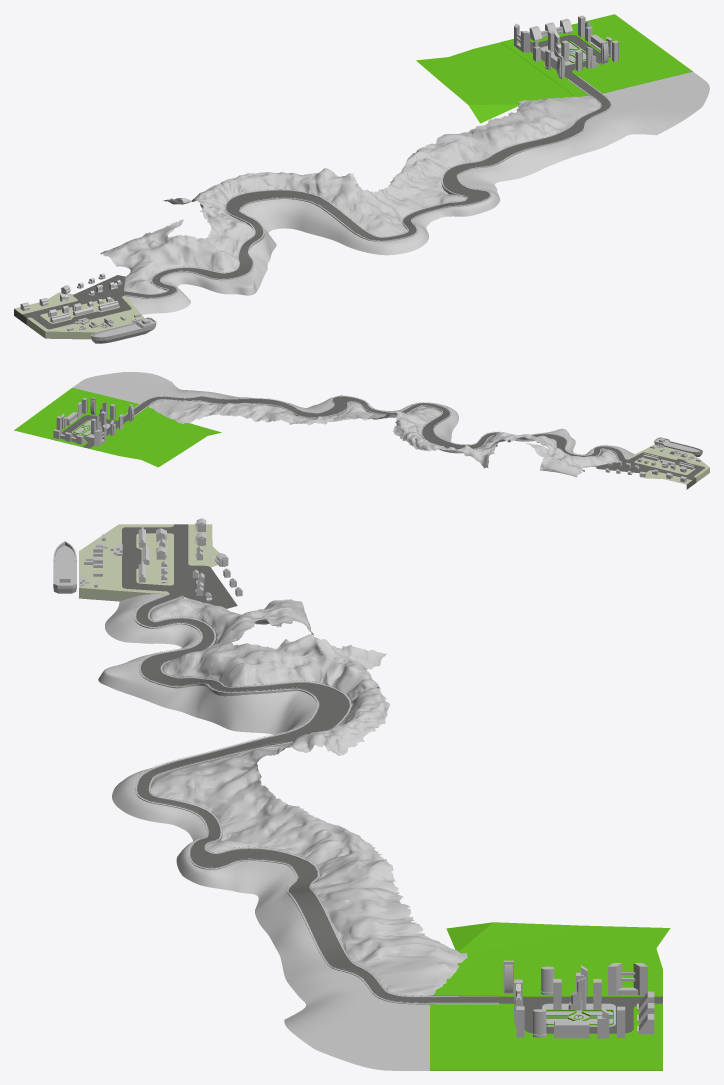
The model's file is level_1.FBX.
The picture shows the model from 3 angles, top to bottom: view 1: azimuth 30°, elevation 25°; view 2: azimuth 150°, elevation 25°; view 3: azimuth 270°, elevation 25°; orthographic projection. The views are drawn at different scales.
Parts seen in each view (by area): view 1: mountain, rocks, grass, road, D_B, D_A, road_block_2, Line008, road_block_1; view 2: mountain, rocks, grass, D_B, road, D_A, road_block_2, Line008, road_block_1, Line021, park, Box033; view 3: mountain, rocks, D_B, grass, road, D_A, road_block_2, road_block_1, Line008, park, Box033.
Boxes of the visible parts, x1,y1,x2,y2 form: mountain: [100, 95, 600, 293]; rocks: [126, 71, 709, 314]; grass: [416, 39, 589, 123]; road: [124, 77, 610, 297]; D_B: [519, 14, 692, 93]; D_A: [14, 275, 143, 339]; road_block_2: [123, 76, 611, 298]; Line008: [91, 317, 156, 343]; road_block_1: [123, 76, 611, 297]; mountain: [148, 399, 618, 477]; rocks: [73, 372, 634, 458]; grass: [90, 406, 221, 467]; D_B: [14, 387, 139, 448]; road: [123, 396, 624, 460]; D_A: [596, 444, 709, 489]; road_block_2: [123, 395, 625, 460]; Line008: [654, 437, 702, 456]; road_block_1: [125, 395, 624, 460]; Line021: [53, 429, 85, 444]; park: [72, 419, 110, 437]; Box033: [94, 424, 106, 446]; mountain: [149, 598, 467, 995]; rocks: [98, 594, 429, 1070]; D_B: [430, 997, 662, 1070]; grass: [432, 922, 670, 996]; road: [136, 594, 498, 1003]; D_A: [79, 524, 237, 608]; road_block_2: [134, 593, 498, 1004]; road_block_1: [135, 592, 499, 1003]; Line008: [53, 541, 76, 593]; park: [542, 1003, 615, 1026]; Box033: [608, 963, 647, 995].
Size of the model in its own units: 34191 by 1673 by 16319.
